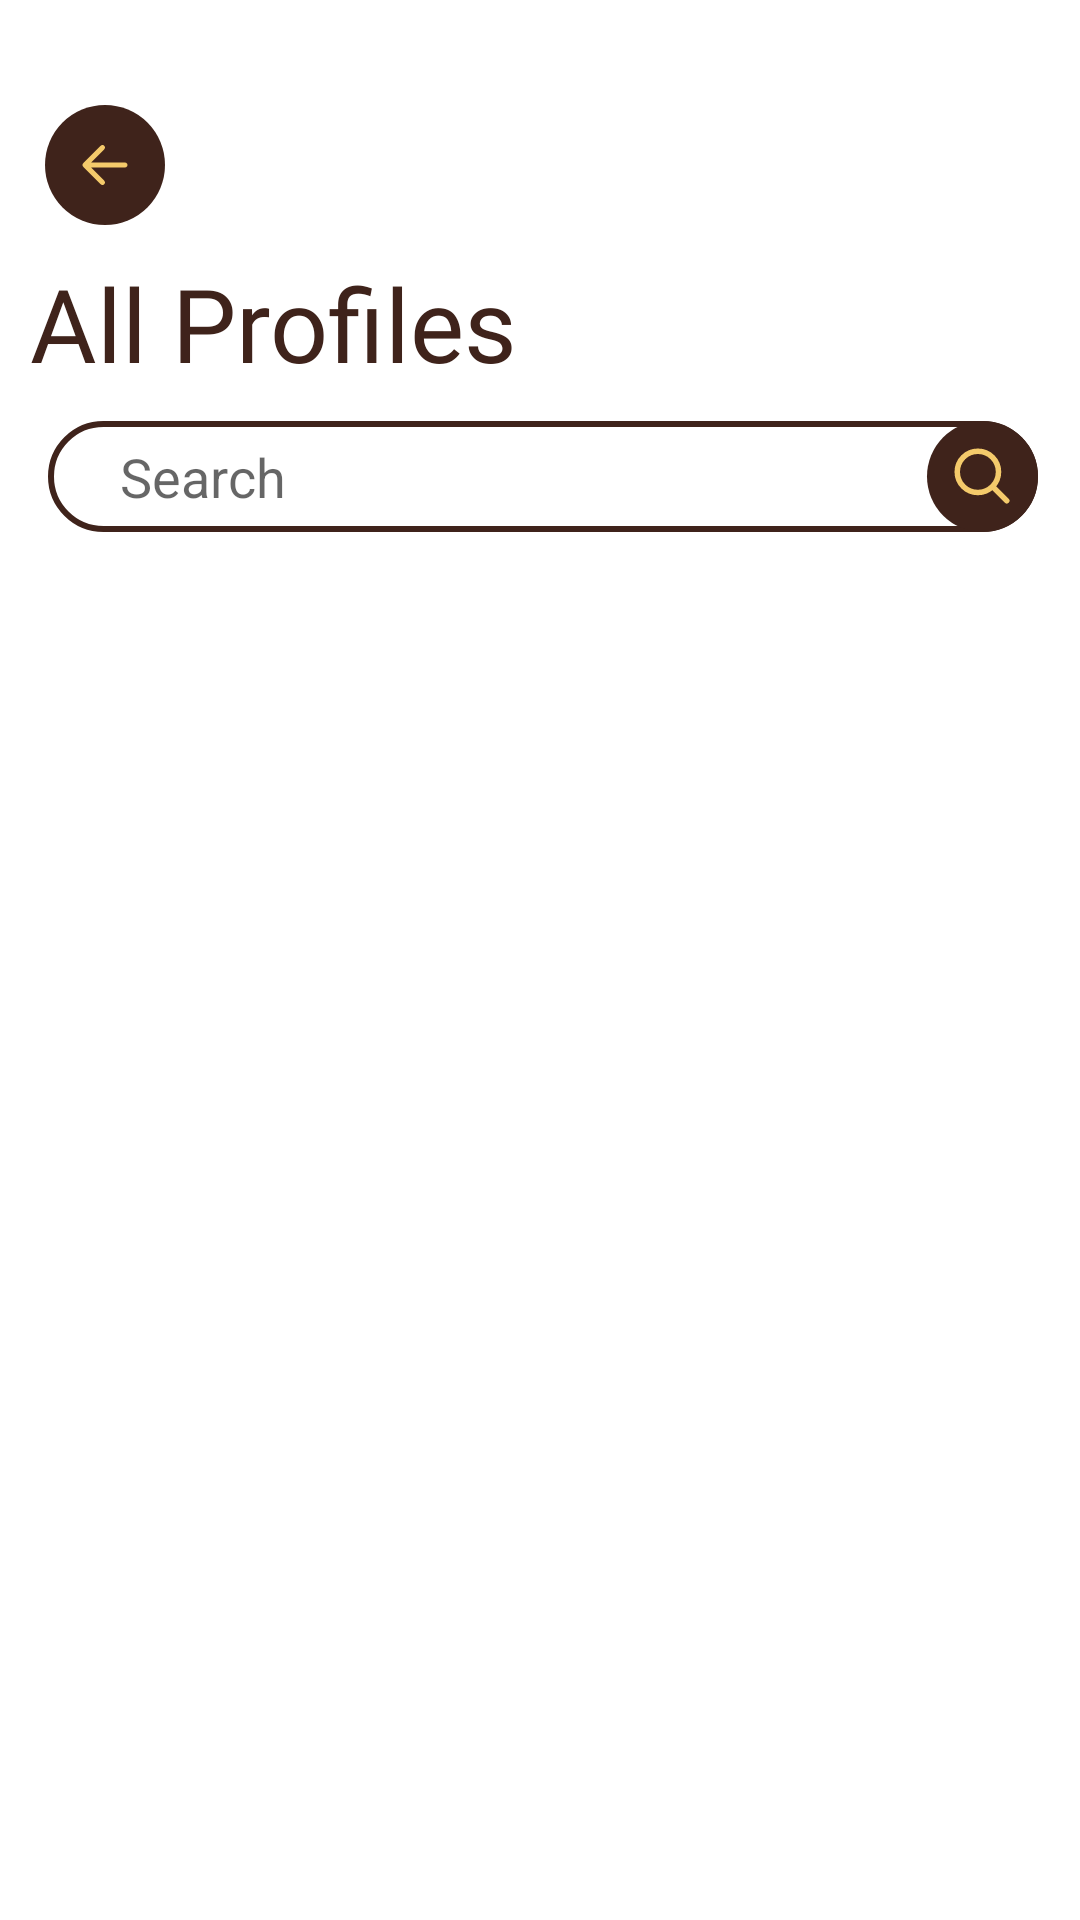

Icon click points for this 1080 × 1920 phone screenshot, format (x=x, y=y):
Back: (x=105, y=165)
